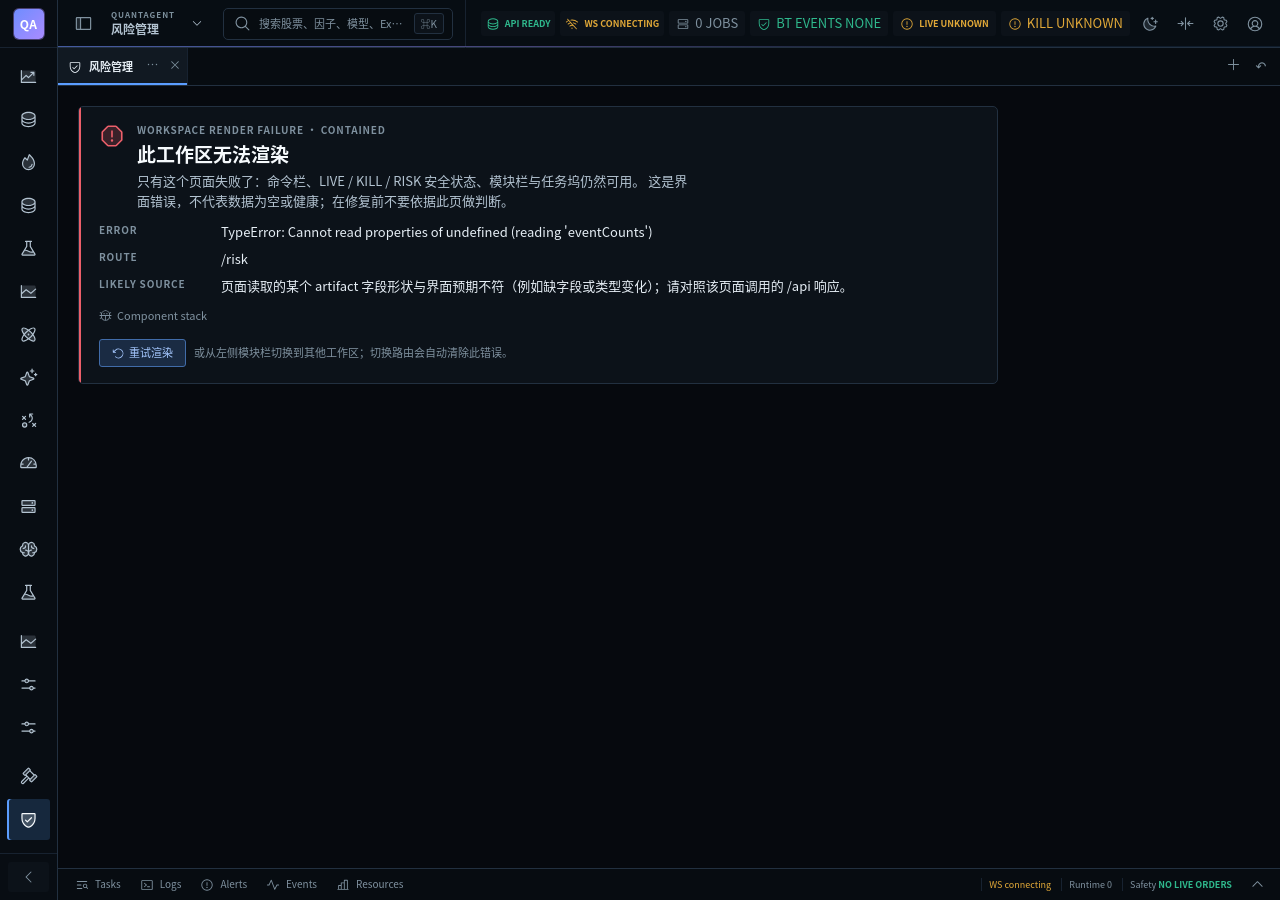
a crashing page shows a contained diagnosis while the shell and safety chrome stay up
Expected: the text "TypeError: Cannot read properties of undefined" is shown, [221,222,653,241]
Expected: the text "/risk" is shown, [221,249,248,268]
Moving to another workspace clears the contained error.
Click the button titled "训练实验室 · Training Lab" at (28, 506), box [7,486,50,527]
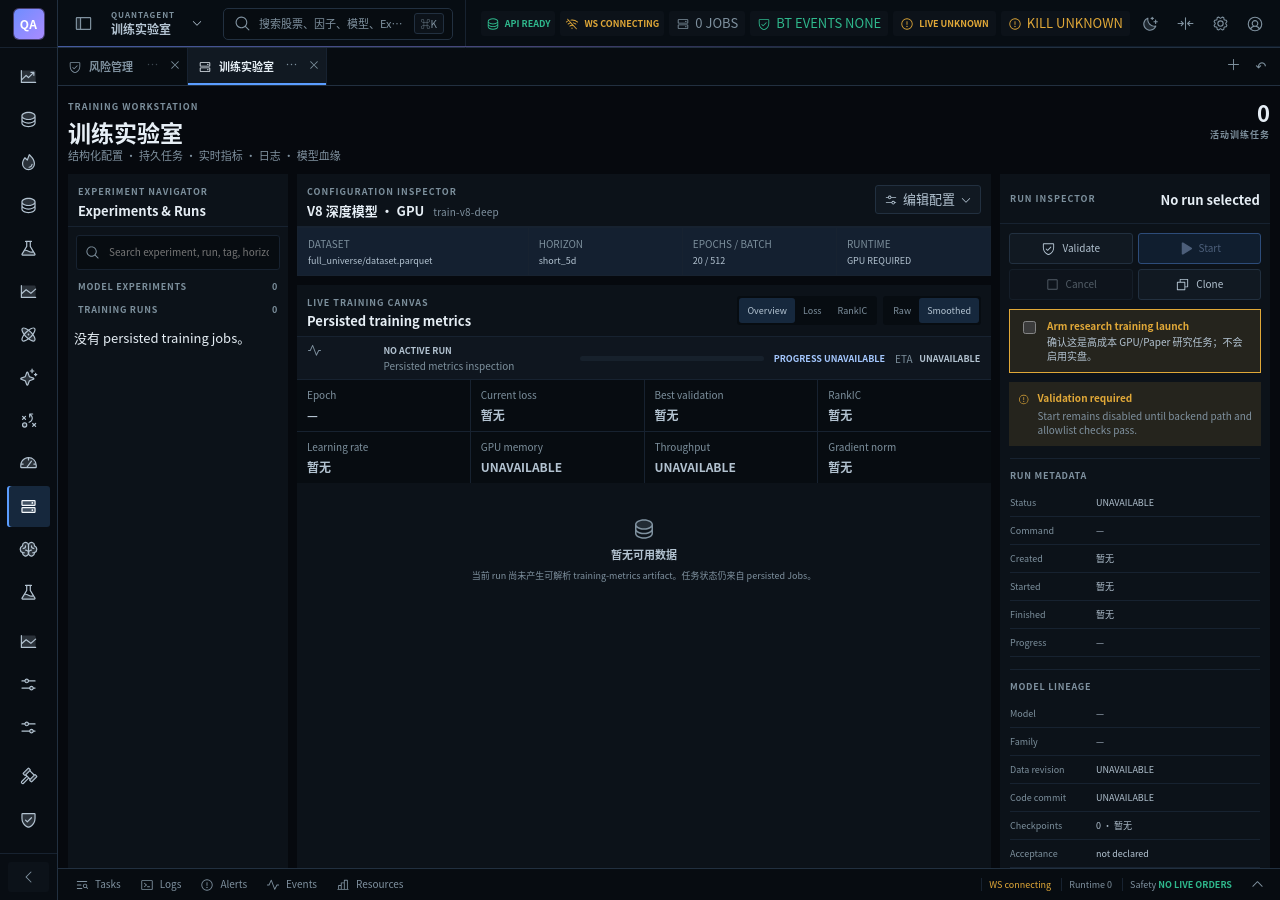
Now the heading "训练实验室" is shown, box [68,115,183,149]
Now the message "工作区渲染失败" is gone
